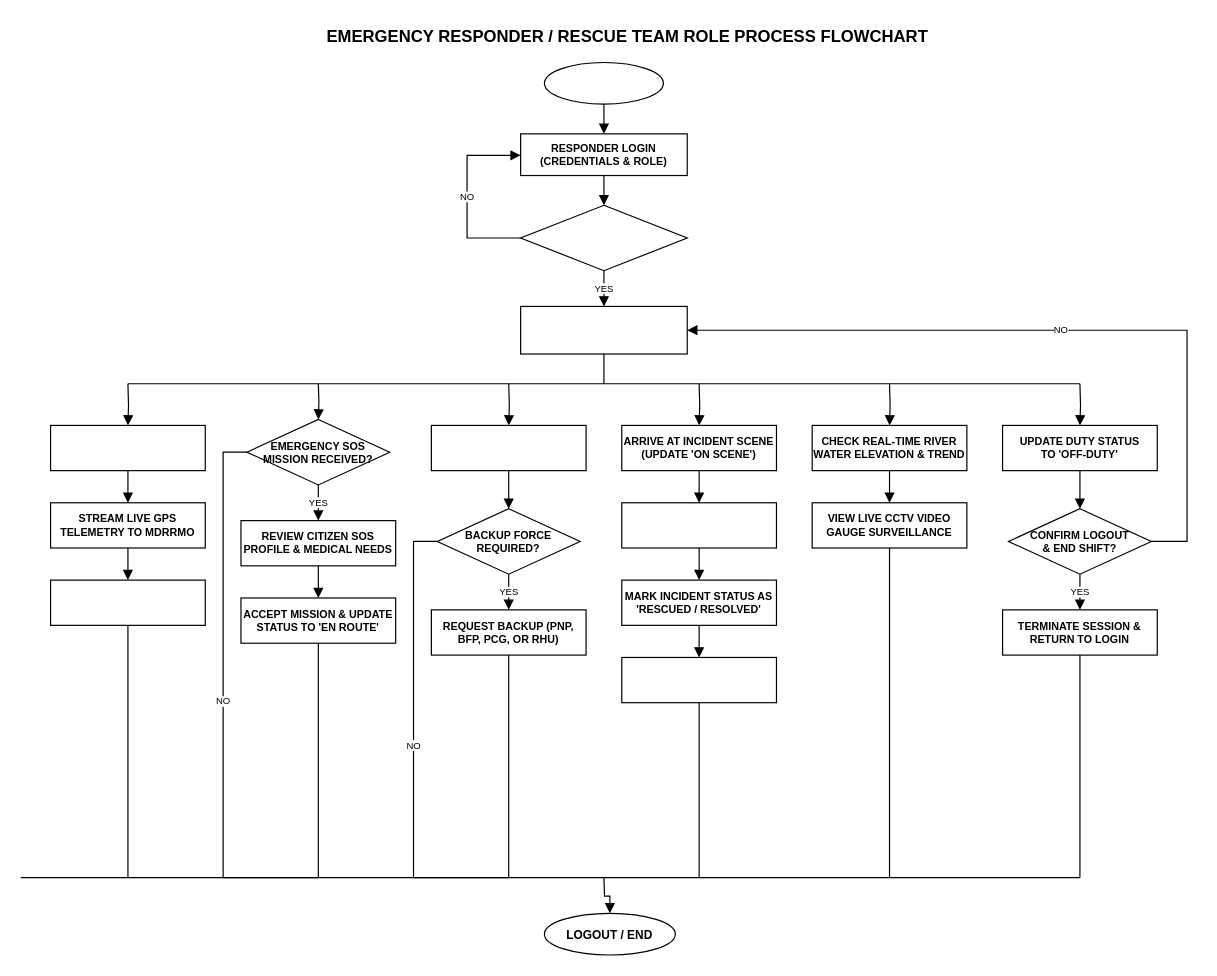
This 1217x976 diagram has some shape labels left out. Here are the shapes that lost their labels. From the top down, the box of each, then its label:
(543, 61, 663, 104): START
(519, 204, 687, 271): ARE CREDENTIALS VALID & AUTHORIZED?
(519, 305, 687, 354): RESPONDER DASHBOARD
(49, 424, 205, 471): SET DUTY STATUS TO 'ACTIVE / ON-DUTY'
(430, 424, 586, 471): ASSESS RESCUE SCENE & FLOOD SEVERITY
(621, 502, 776, 548): PERFORM FIRST AID / BOAT EXTRACTION / EVACUATION
(49, 579, 205, 625): MONITOR HIGH-RISK ZONES ON MAP
(621, 656, 776, 703): SUBMIT POST-INCIDENT ACTION REPORT TO HQ
